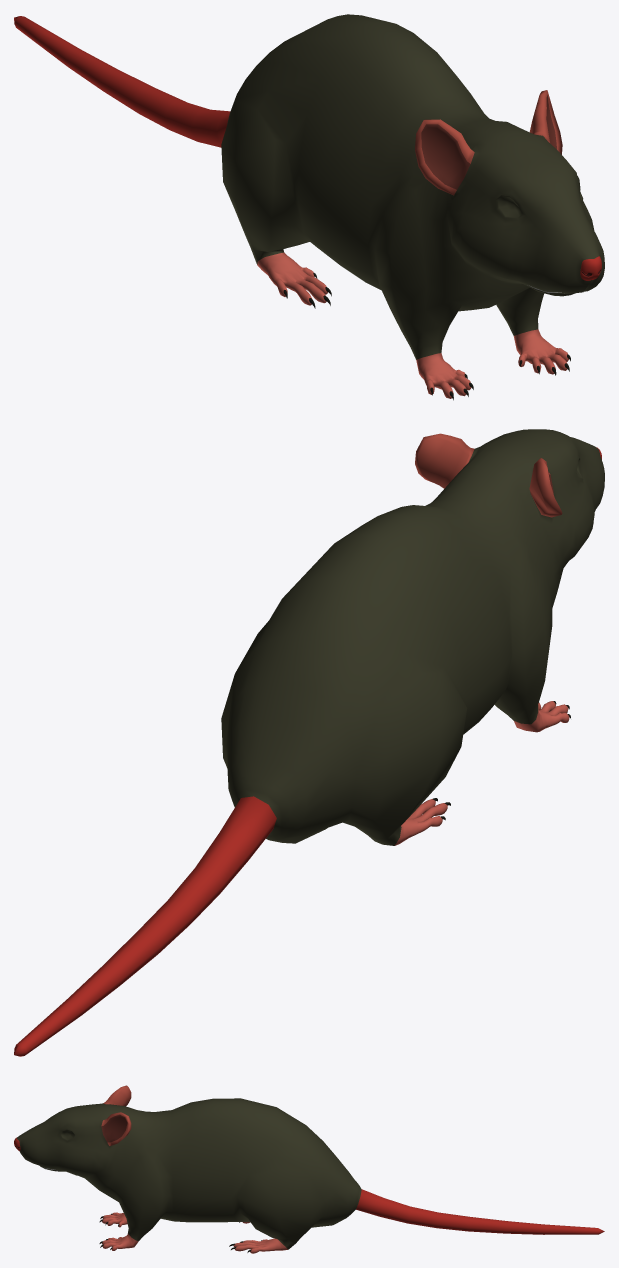
Rendered from rat_rat.obj.
3 views of the same model, one above another, from view 1: azimuth 30°, elevation 25°; view 2: azimuth 150°, elevation 25°; view 3: azimuth 270°, elevation 25° (orthographic). The views are drawn at different scales.
Parts seen in each view (by area): view 1: rat; view 2: rat; view 3: rat.
Part boxes in pixels (x1,y1,x2,y2): rat: [14, 14, 604, 400]; rat: [14, 429, 604, 1056]; rat: [14, 1085, 604, 1253].
Bounding box in the file's own units: 0.0896 × 0.1116 × 0.4428.
